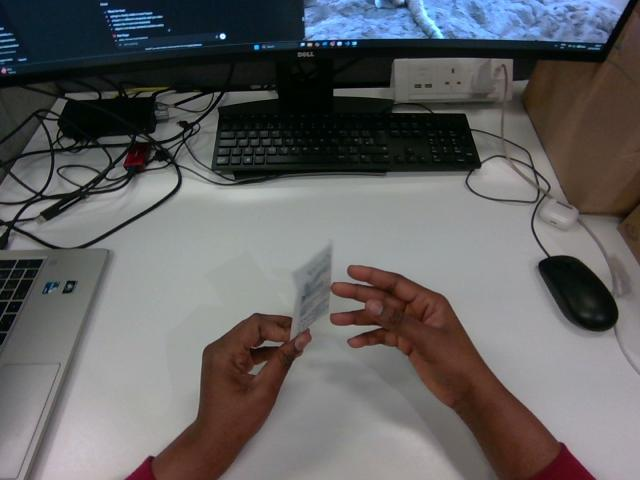gauze: (290, 243, 332, 338)
